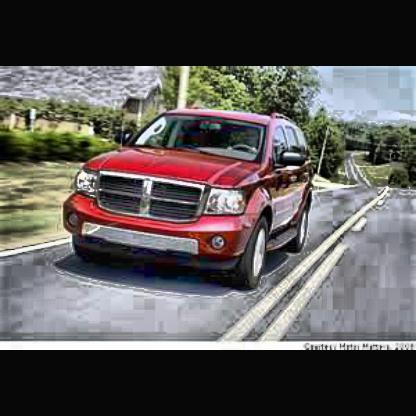Dodge Durango SUV 2007: (67, 109, 313, 293)
